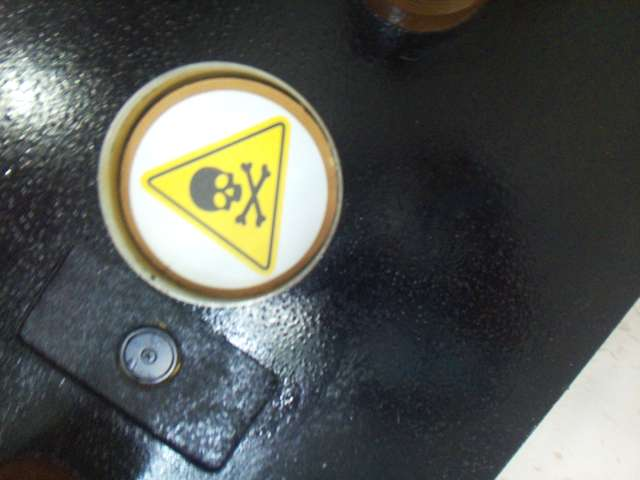toxic_fluid: (132, 93, 326, 285)
